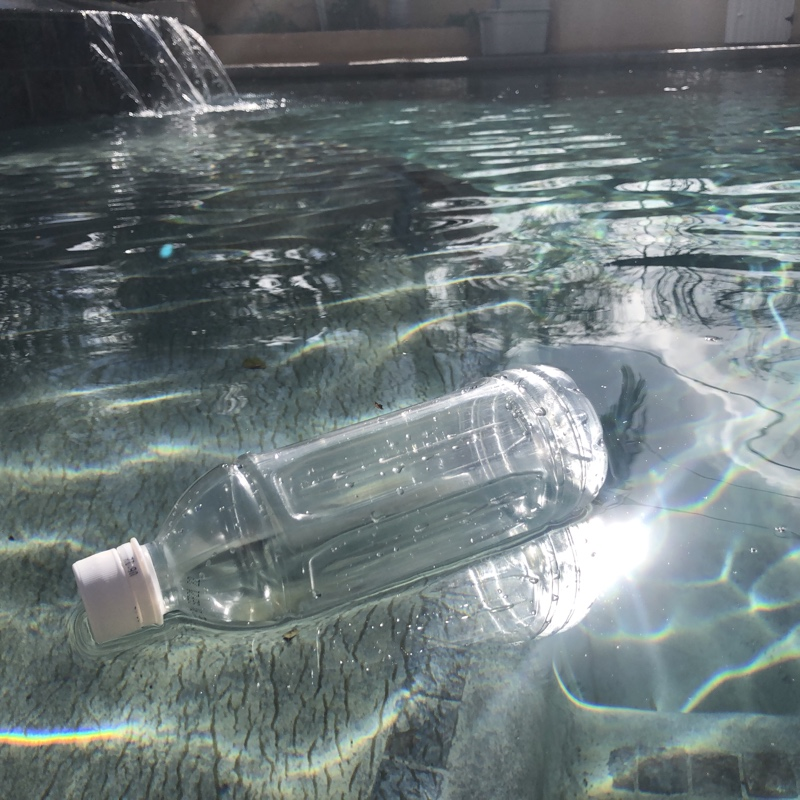Plastic Bottle: (61, 356, 616, 654)
